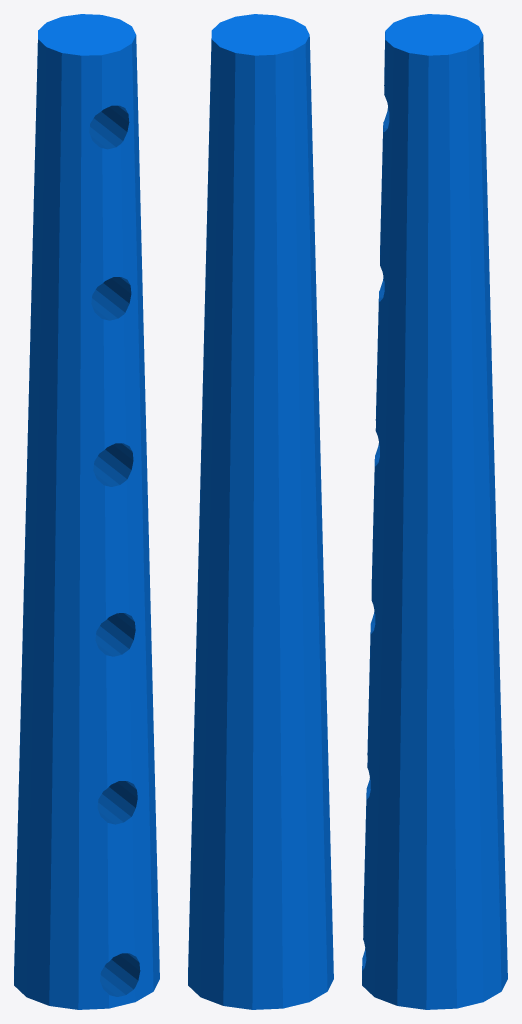
Rendered from Neck.fbx.
3 renders of one model, left to right at view 1: azimuth 30°, elevation 25°; view 2: azimuth 150°, elevation 25°; view 3: azimuth 270°, elevation 25°, orthographic.
Parts seen in each view (by area): view 1: Cylinder.003; view 2: Cylinder.003; view 3: Cylinder.003.
Boxes of the visible parts, x1,y1,x2,y2 form: Cylinder.003: [14, 14, 159, 1009]; Cylinder.003: [188, 14, 333, 1009]; Cylinder.003: [362, 14, 507, 1009].
Size of the model in its own units: 13.59 by 96.48 by 13.52.
